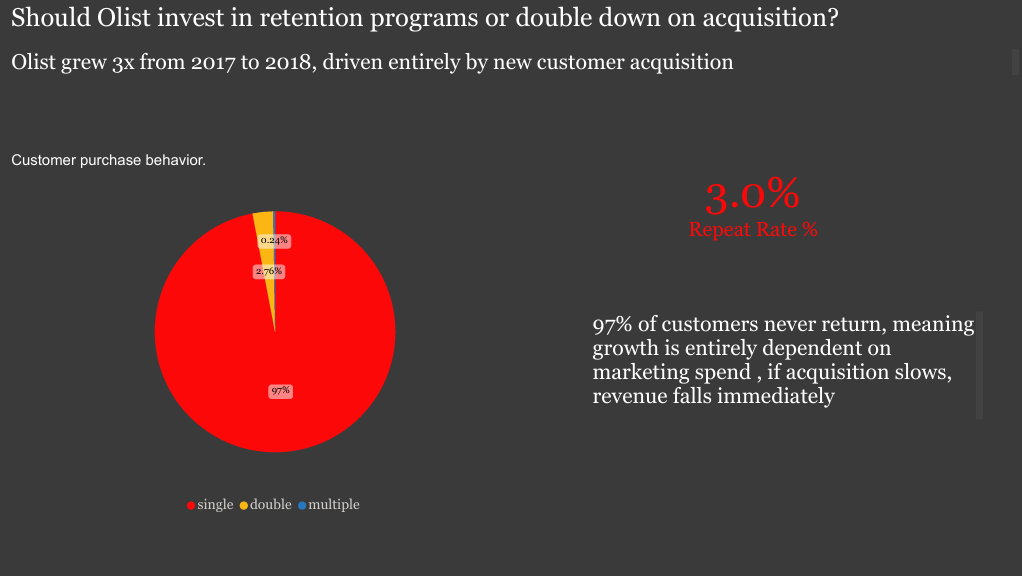

What the dashboard file says about the page in this screenshot:
{"tool":"powerbi","page":{"name":"Revenue health","canvas":[1280,720],"ordinal":0},"visuals":[{"type":"textbox","box":[10.1,0,1269.9,58.8],"z":0},{"type":"textbox","box":[10,58.3,1270,53.3],"z":1},{"type":"textbox","box":[736.7,385,498.3,151.7],"z":2},{"type":"card","fields":{"Values":["vw_customer_retention.Repeat Rate %"]},"box":[778.3,190,330,121.7],"z":3},{"type":"pieChart","title":"Customer purchase behavior.","fields":{"Y":["Sum(vw_customer_retention.number_of_customers)"],"Category":["vw_customer_retention.purchase_status"]},"box":[10,190,670,463.3],"z":4}]}

Visuals, with their boxes in screenshot pixels (x1, y1, x2, y2), scaled from the page's 1280x720 canvas onto the 1022x576 screenshot:
textbox: box(8, 0, 1021, 47)
textbox: box(8, 47, 1021, 89)
textbox: box(588, 308, 986, 429)
card - vw_customer_retention.Repeat Rate %: box(621, 152, 885, 249)
"Customer purchase behavior." pieChart: box(8, 152, 543, 523)
